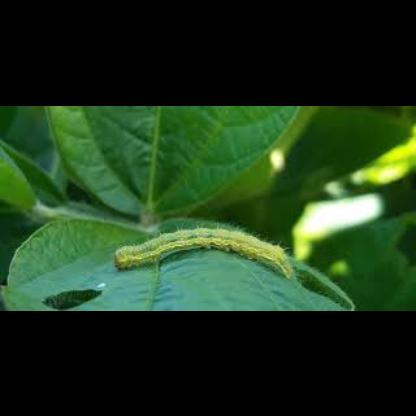agujero: (274, 274, 332, 324), (36, 296, 98, 324)
oruga: (106, 232, 272, 294)
